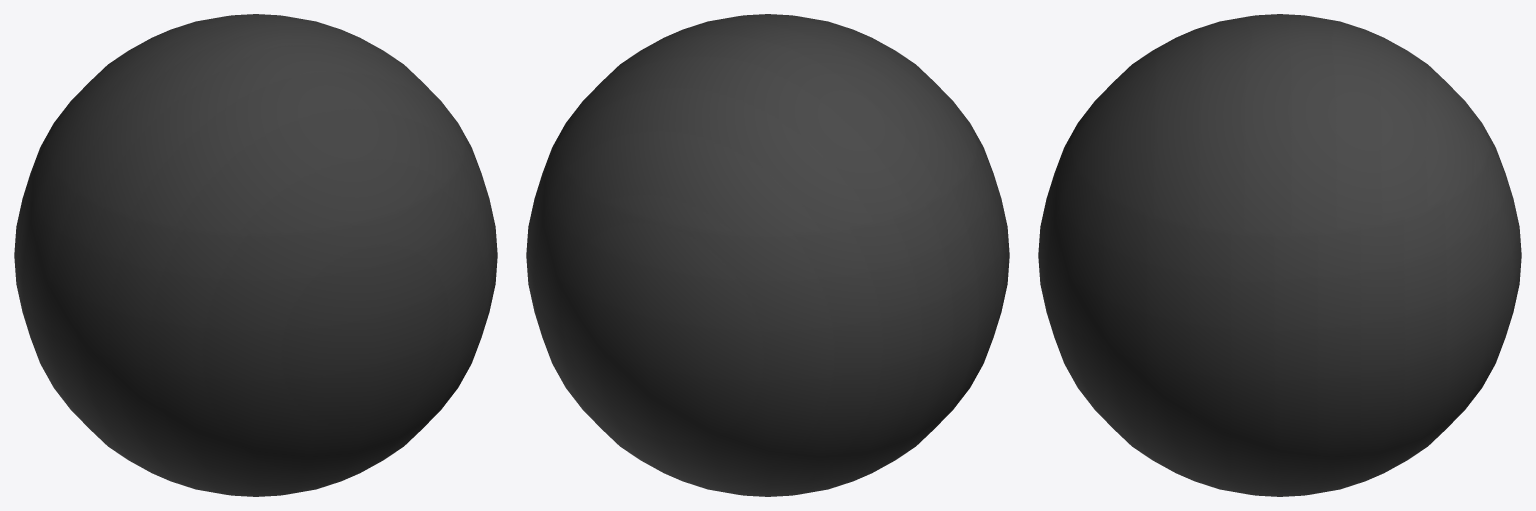
Rendered from ballgray.glb.
3 renders of one model, left to right at view 1: azimuth 30°, elevation 25°; view 2: azimuth 150°, elevation 25°; view 3: azimuth 270°, elevation 25°, orthographic.
Parts seen in each view (by area): view 1: node_id35; view 2: node_id35; view 3: node_id35.
Part boxes in pixels (bbox=[...]): node_id35: bbox=[14, 14, 497, 496]; node_id35: bbox=[526, 14, 1009, 496]; node_id35: bbox=[1038, 14, 1521, 496].
Bounding box in the file's own units: 0.512 × 0.512 × 0.512.
Materials: 1 (1 with a texture image).
